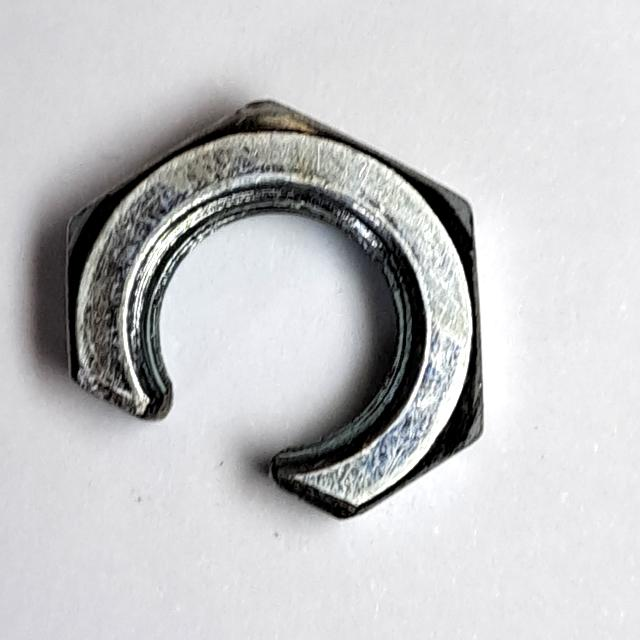Fracture: (47, 77, 504, 544)
